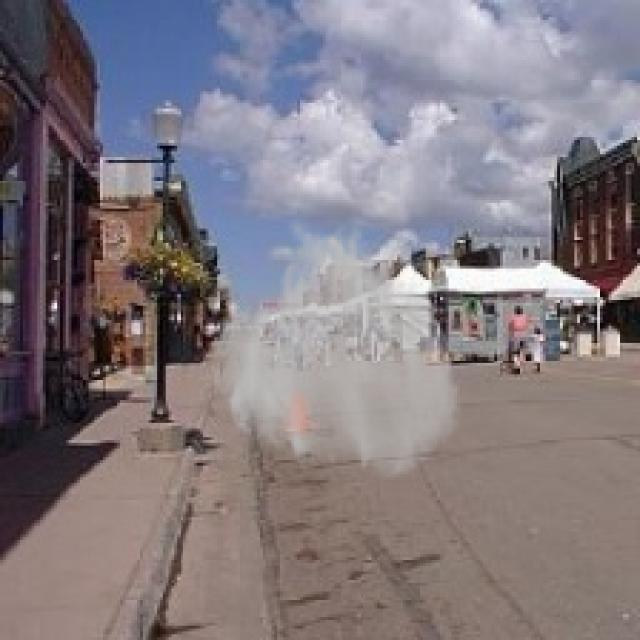Smoke: (208, 214, 463, 483)
